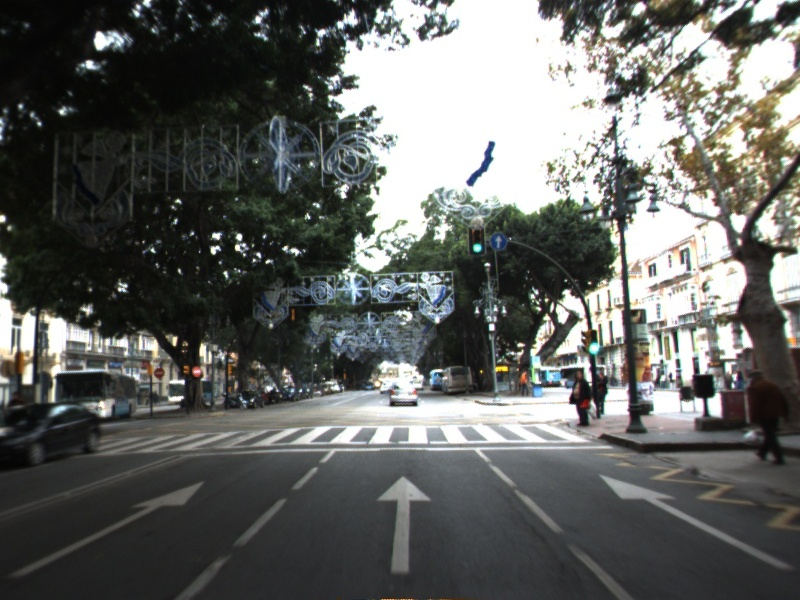STRAIGHT: (5, 477, 209, 580), (596, 471, 798, 573), (373, 472, 435, 577)
